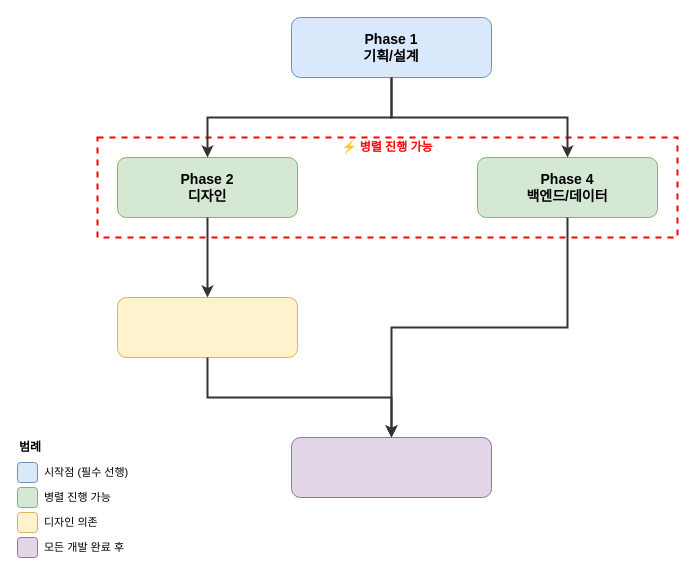
The diagram is 696 pixels wide and 575 high, and some of its shapes have lost their labels. The shapes that lost their labels are listed below. From the top down, each one's box as (x1, y1, x2, y2) in pixels, then its label:
(116, 296, 298, 358): Phase 3 프론트엔드
(290, 436, 492, 498): Phase 5 마케팅 연동
